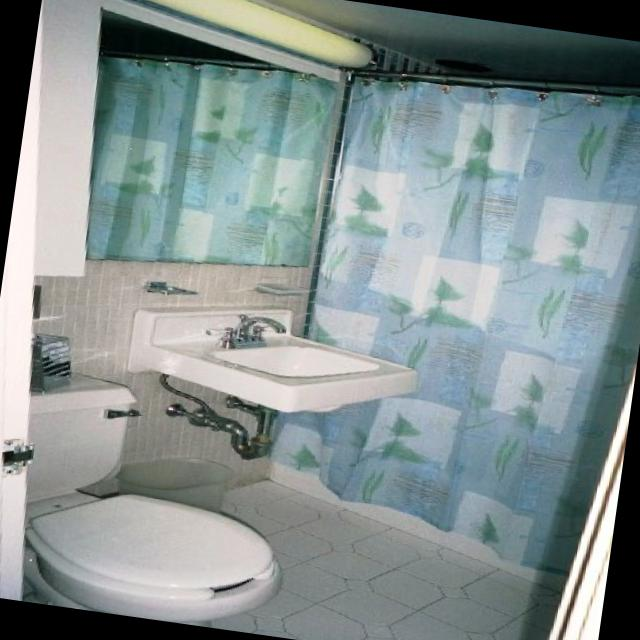bucket: (122, 457, 235, 516)
ceiling beam: (259, 0, 640, 85)
cistern: (30, 370, 139, 506)
curtain crop: (269, 78, 640, 578)
door bars: (0, 25, 45, 600)
faucet handle: (224, 319, 286, 344)
floor -X: (28, 481, 543, 640)
fluorescent light: (145, 0, 373, 71)
mirror crop: (86, 9, 347, 268)
pipe: (165, 371, 265, 458)
rail crop: (347, 71, 640, 93)
shower tile: (272, 424, 586, 591)
wall clock: (33, 0, 369, 508), (542, 242, 640, 640), (380, 46, 453, 74)
washbasin crop: (130, 307, 421, 412)
wc chair crop: (30, 493, 283, 627)
